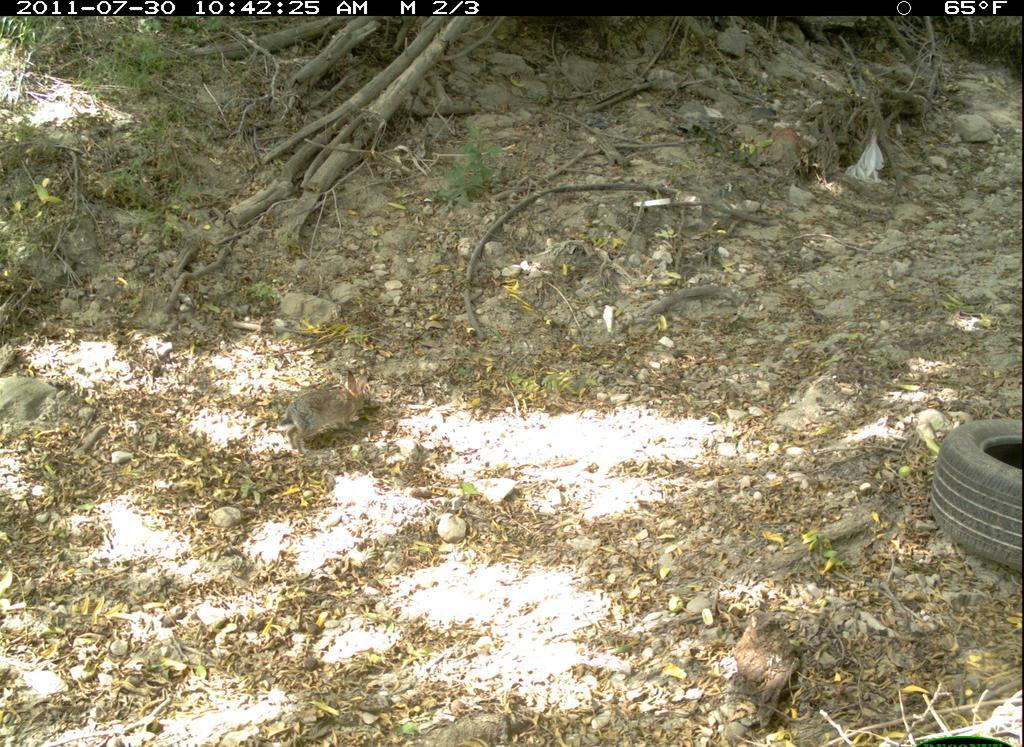rabbit: (274, 368, 375, 458)
